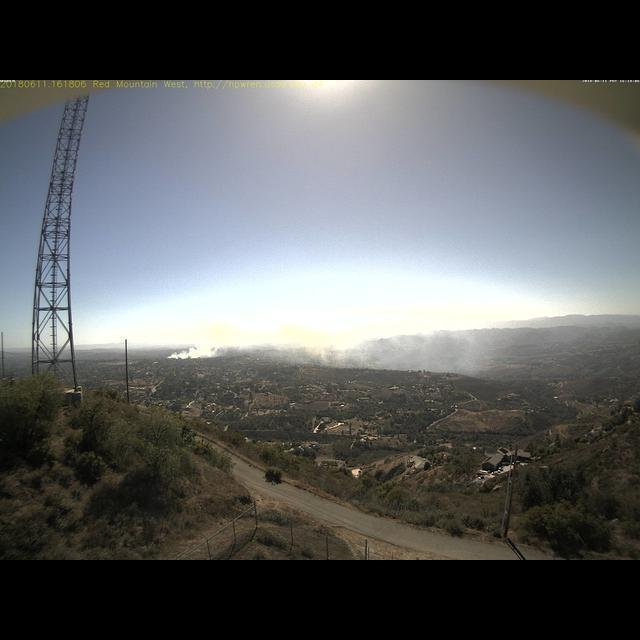Smoke: (168, 327, 369, 367)
